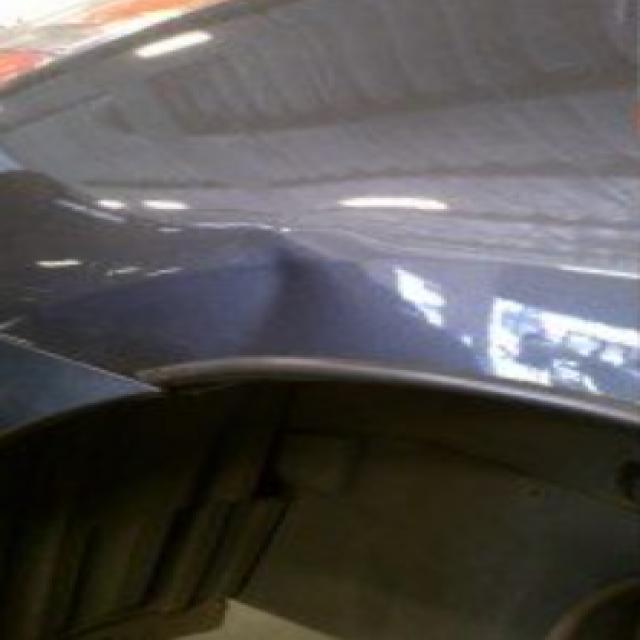dents: (134, 225, 424, 355)
